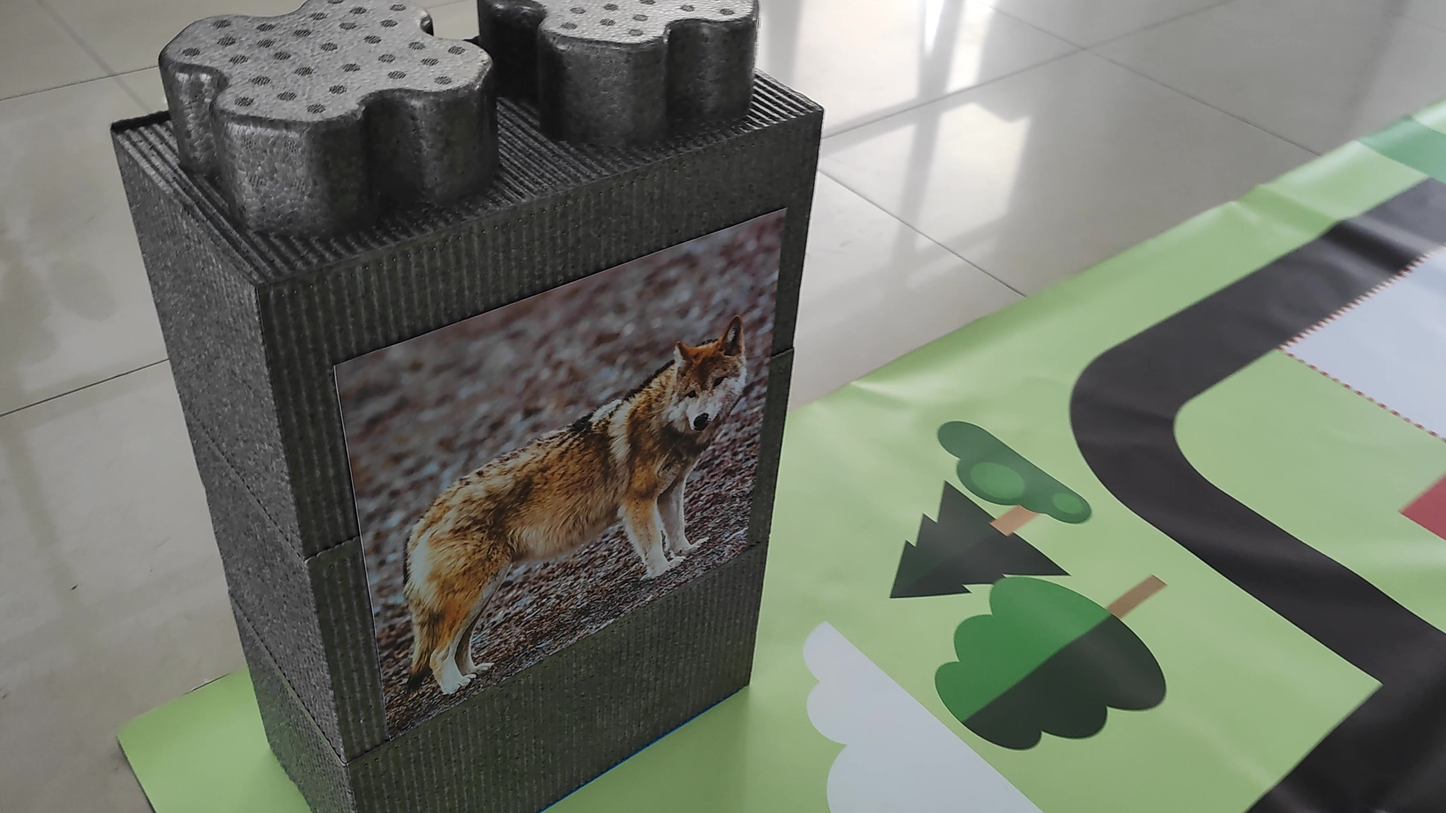wolf: (372, 307, 755, 699)
